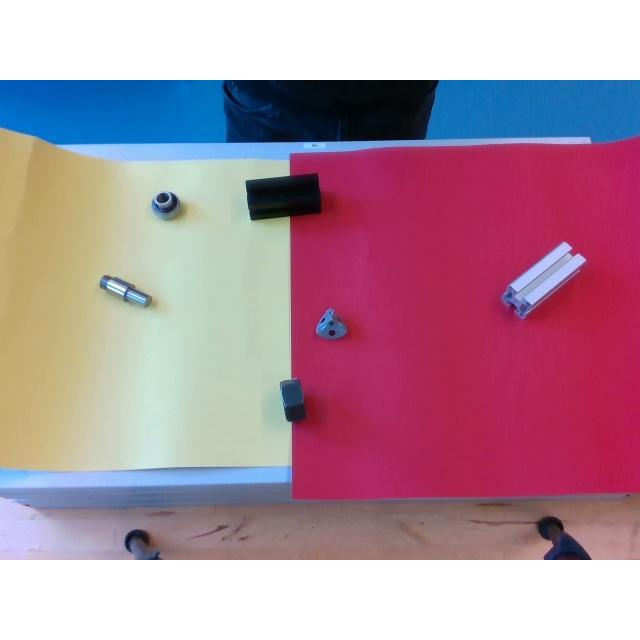Axis2: (99, 274, 153, 308)
Bearing2: (152, 191, 180, 219)
M30: (280, 378, 306, 422)
S40_40_B: (246, 173, 322, 219)
S40_40_G: (502, 242, 586, 318)
